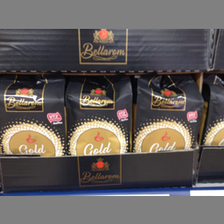chocolate: (1, 76, 68, 156), (66, 77, 132, 158), (133, 76, 202, 150)
